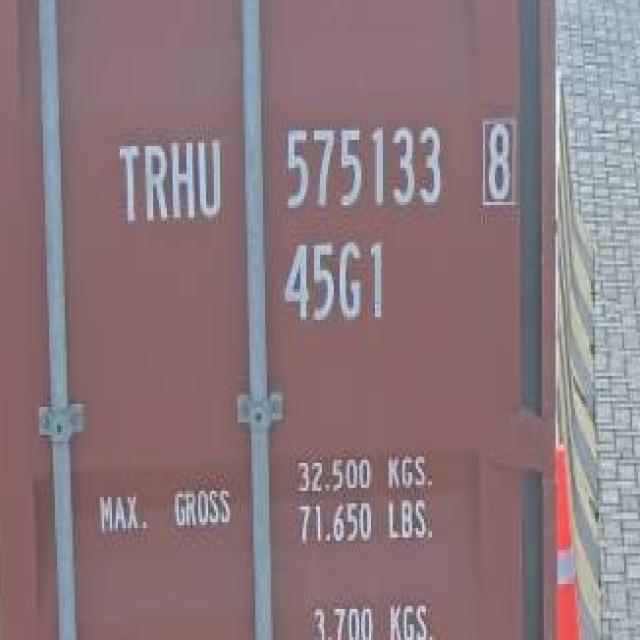dv: (478, 106, 522, 212)
owner: (111, 118, 226, 234)
serial: (276, 108, 446, 214)
size: (278, 234, 394, 330)
